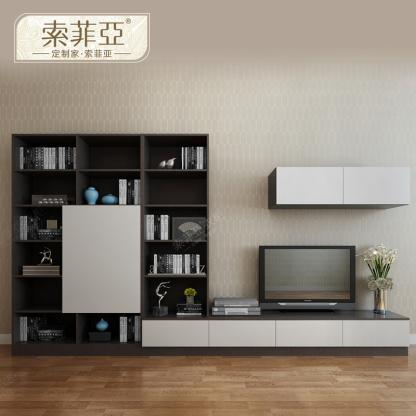TV stand: (10, 132, 410, 358)
